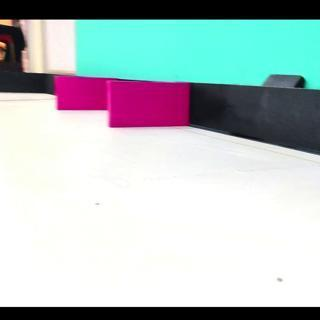xparking: (110, 84, 188, 130), (58, 79, 109, 110)
